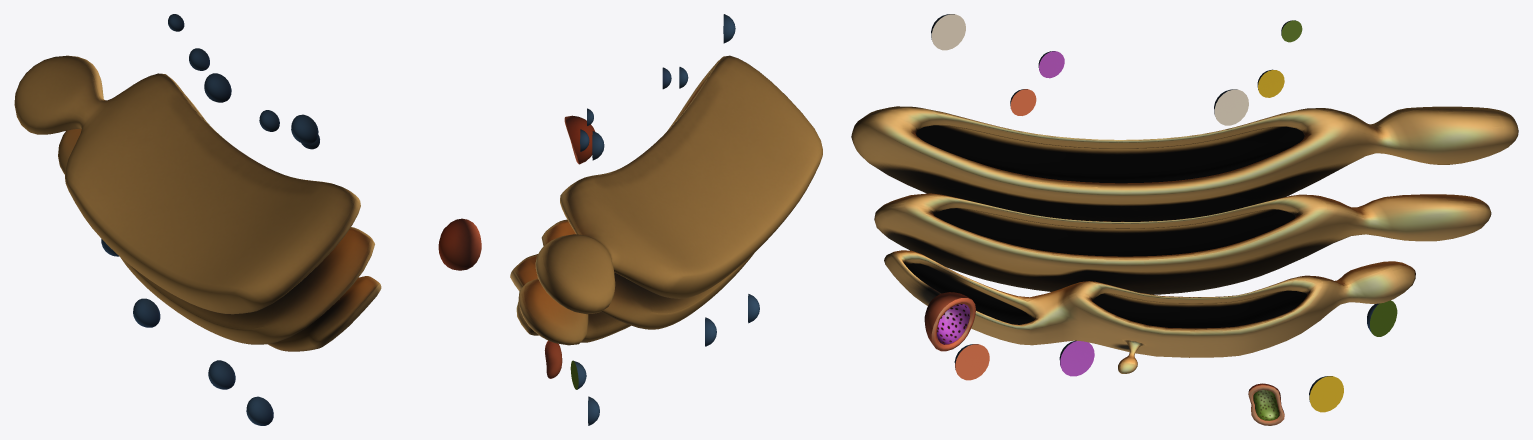
The model's file is célula.fbx.
3 renders of one model, left to right at view 1: azimuth 30°, elevation 25°; view 2: azimuth 150°, elevation 25°; view 3: azimuth 270°, elevation 25°, orthographic. The views are drawn at different scales.
Visible parts, largest first — view 1: Sphere002; view 2: Sphere002; view 3: Sphere002.
Part boxes in pixels (x1,y1,x2,y2): Sphere002: (14,14,481,425); Sphere002: (510,14,822,425); Sphere002: (851,14,1518,425).
Size of the model in its own units: 36.77 by 42.27 by 63.59.
4 materials, 4 textured.
